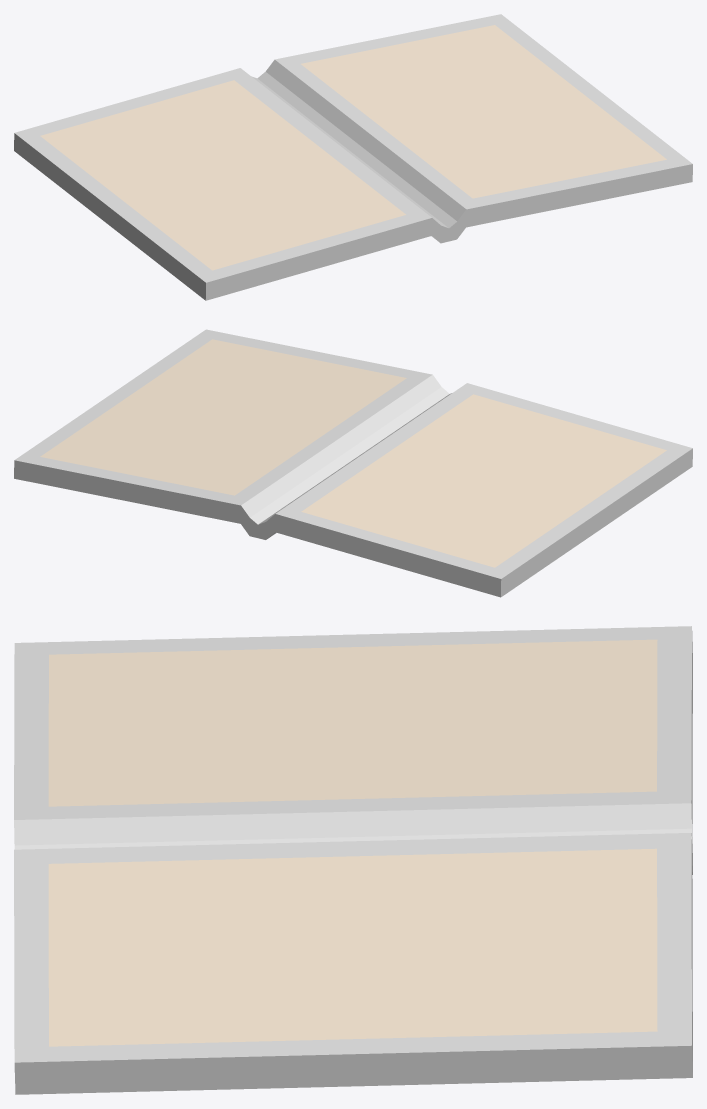
The model's file is Book_Finale_Ver_2.fbx.
3 renders of one model, top to bottom at view 1: azimuth 30°, elevation 25°; view 2: azimuth 150°, elevation 25°; view 3: azimuth 270°, elevation 25°, orthographic. The views are drawn at different scales.
Visible parts, largest first — view 1: Cube; view 2: Cube; view 3: Cube.
Boxes of the visible parts, <box> form: Cube: <box>14,14,692,300</box>; Cube: <box>14,329,692,597</box>; Cube: <box>14,626,692,1094</box>.
Bounding box in the file's own units: 293 × 21.72 × 200.
